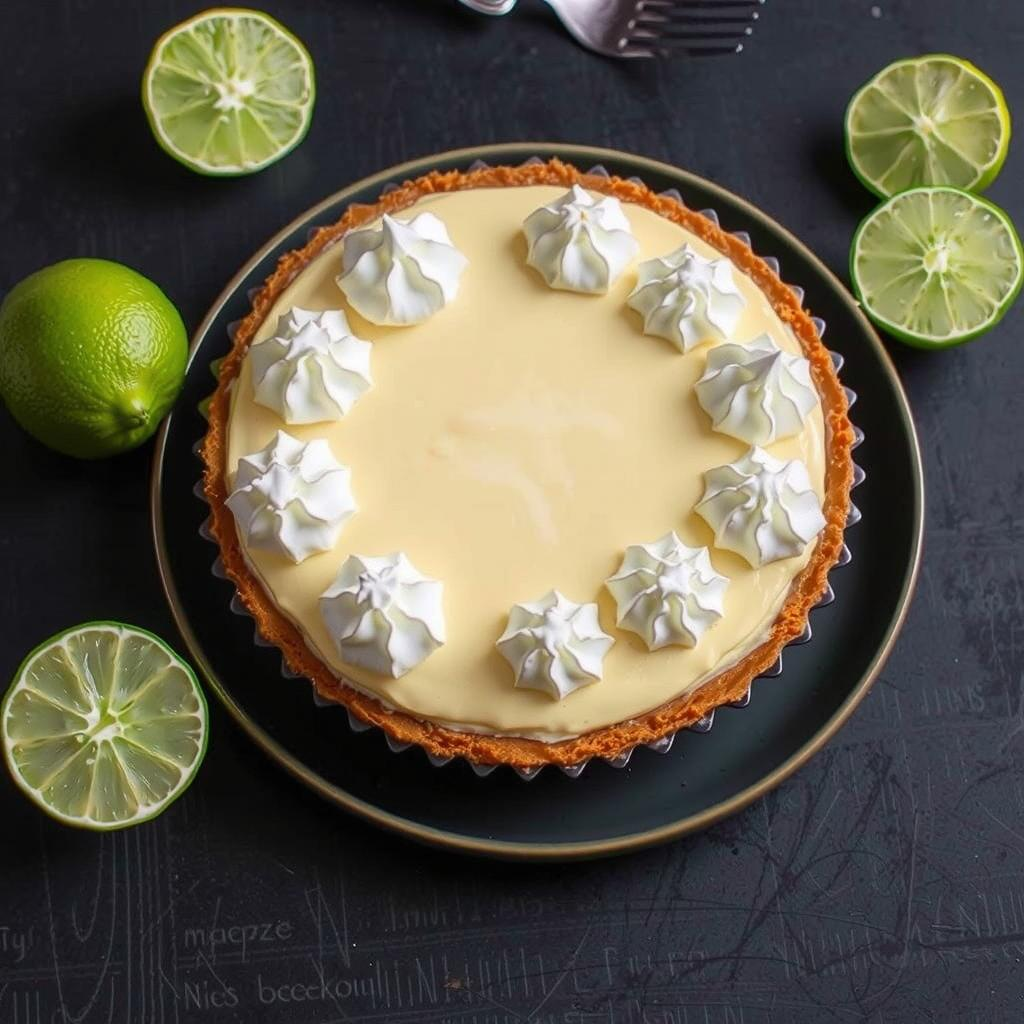pie: (191, 156, 866, 779)
